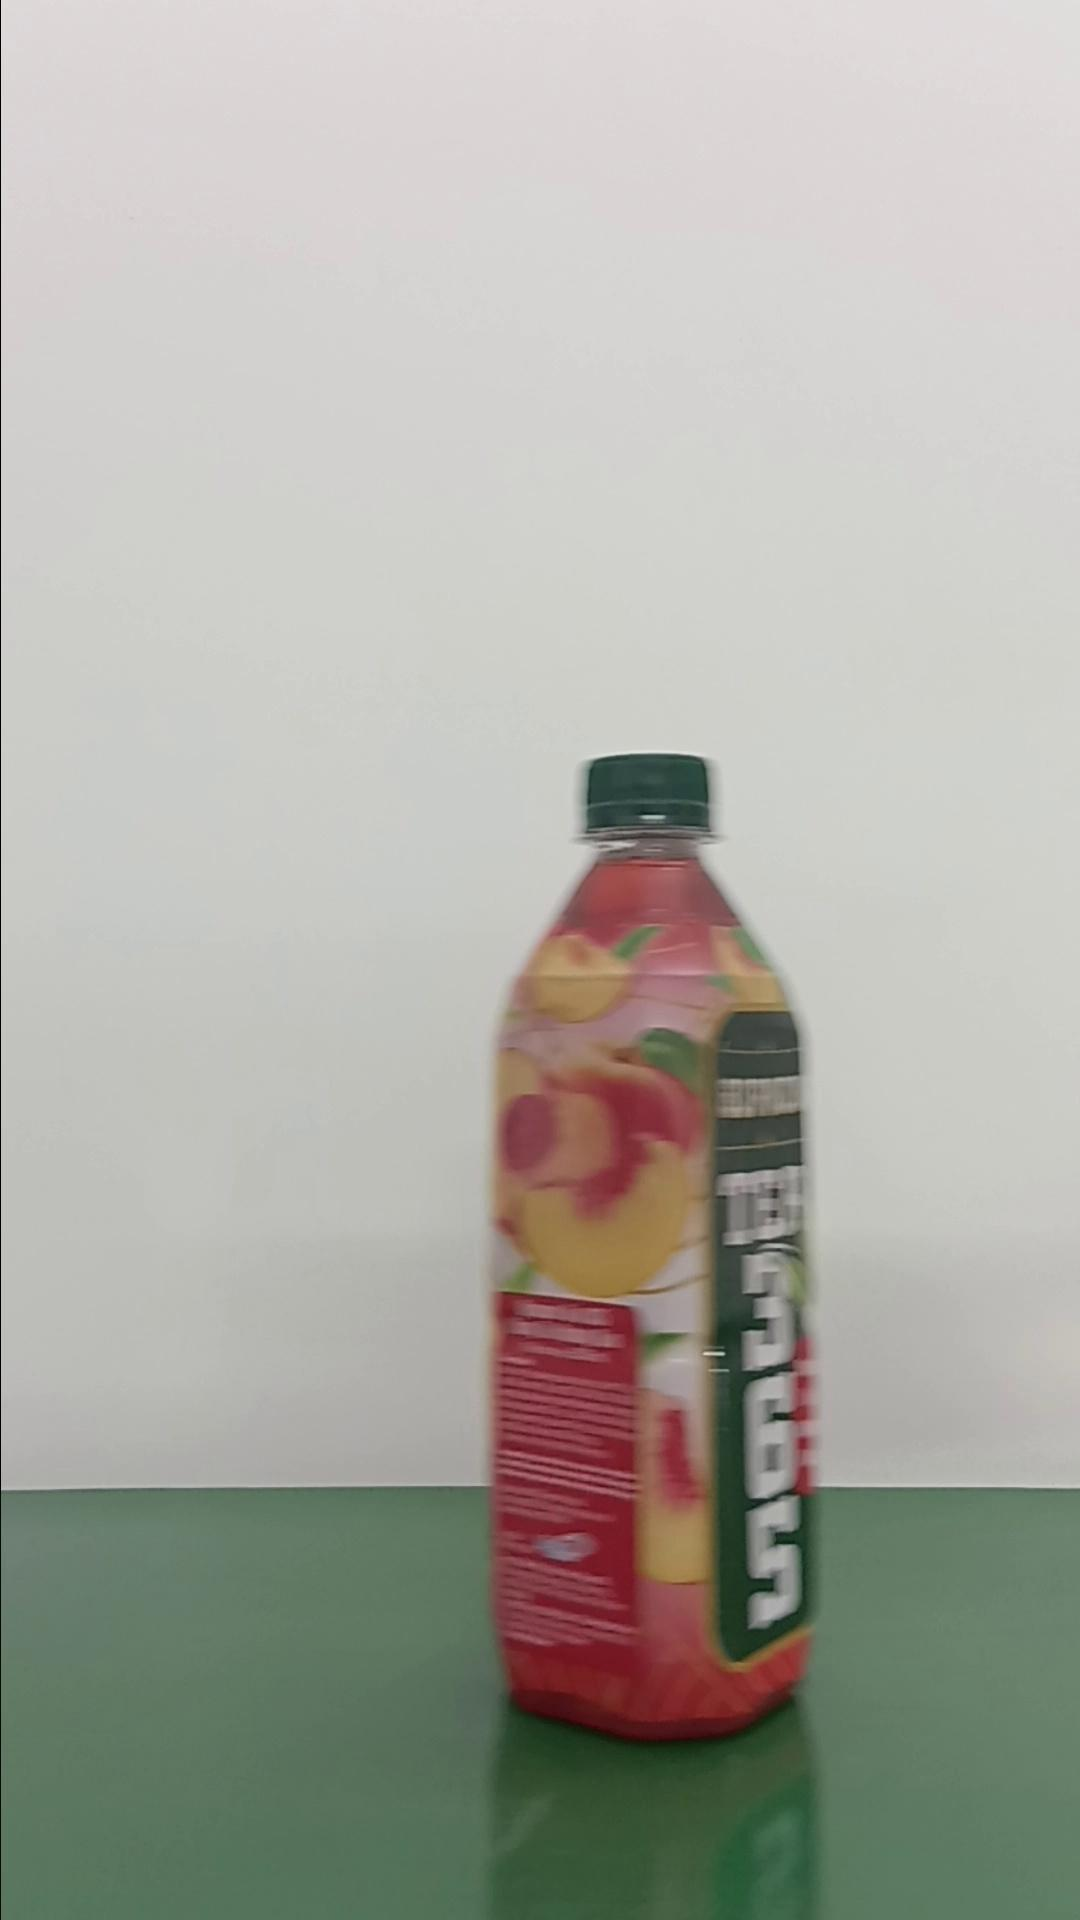khong loi: (481, 749, 823, 1742)
